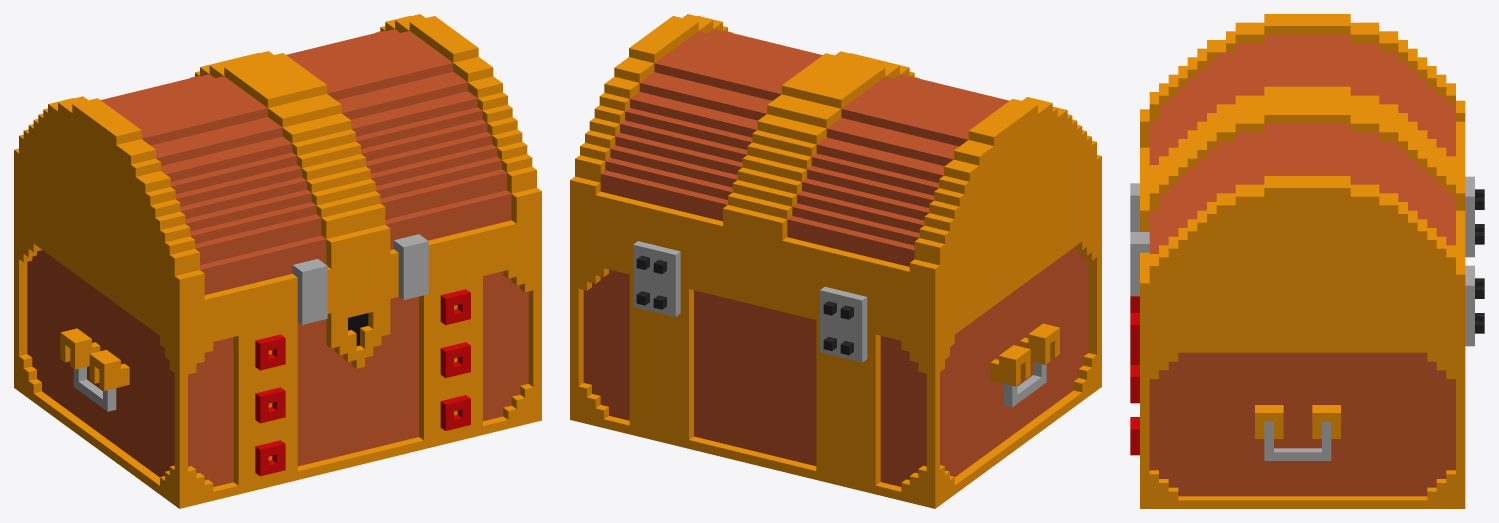
The model's file is chest-closed.obj.
The picture shows the model from 3 angles, left to right: view 1: azimuth 30°, elevation 25°; view 2: azimuth 150°, elevation 25°; view 3: azimuth 270°, elevation 25°; orthographic projection. The views are drawn at different scales.
Size of the model in its own units: 47 by 37 by 37.
1 material, 1 textured.
